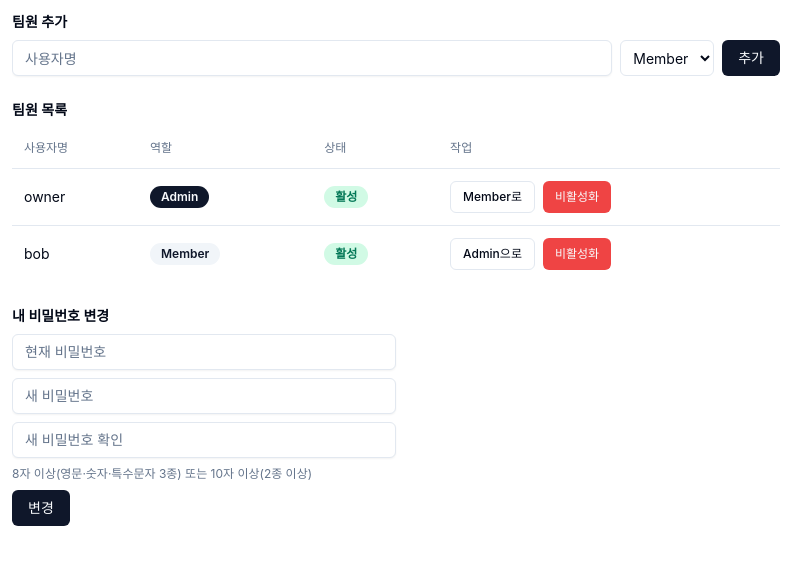
AgentsTab — 역할 관리/게이팅 (issue 210) › 비밀번호 변경 시 확인이 일치하지 않으면 막는다 (issue 211)
Check: the text "owner" is shown, box [12,168,138,225]
Type "old" into the password field with placeholder "현재 비밀번호" at (204, 352), box [12,334,396,370]
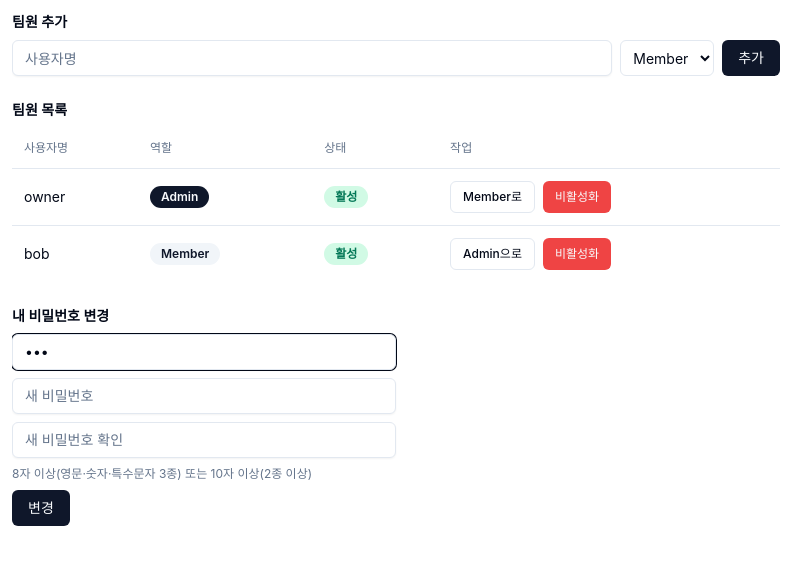
Type "Newpass1!" into the password field with placeholder "새 비밀번호" at (204, 396), box [12,378,396,414]
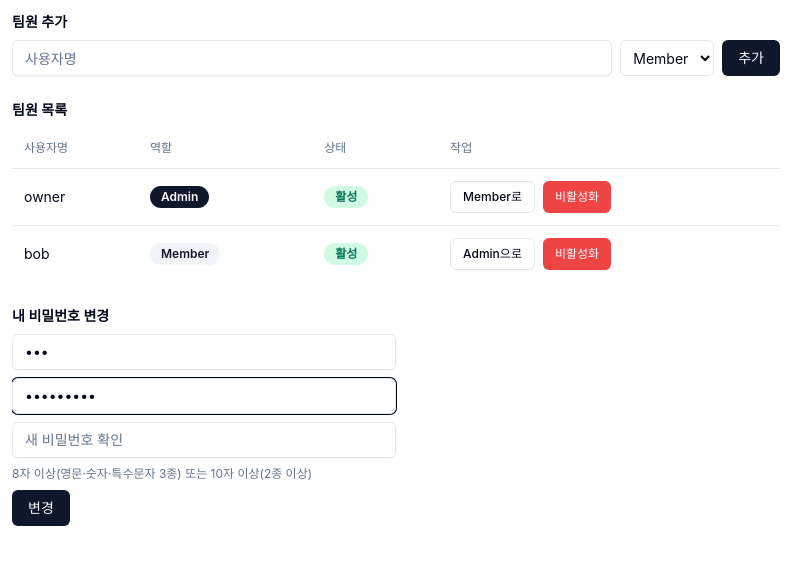
Type "different" into the password field with placeholder "새 비밀번호 확인" at (204, 440), box [12,422,396,458]
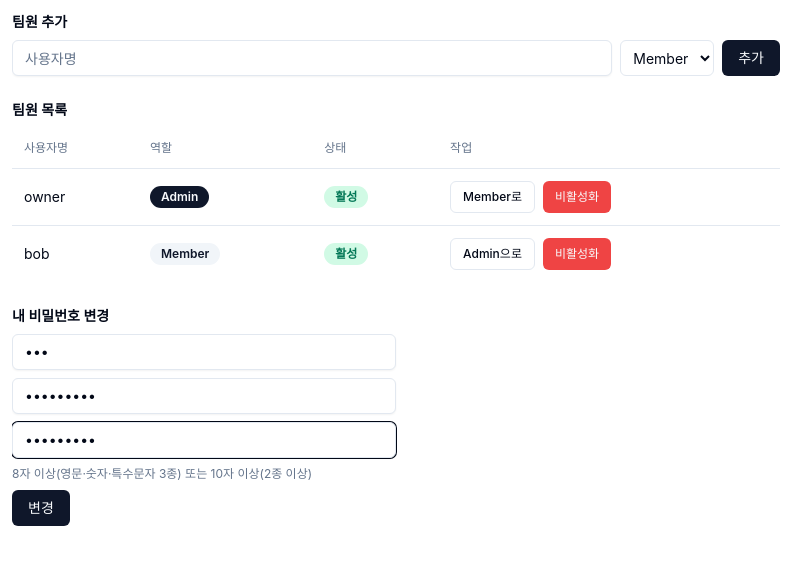
Click the button "변경" at (41, 508), box [12,490,70,526]
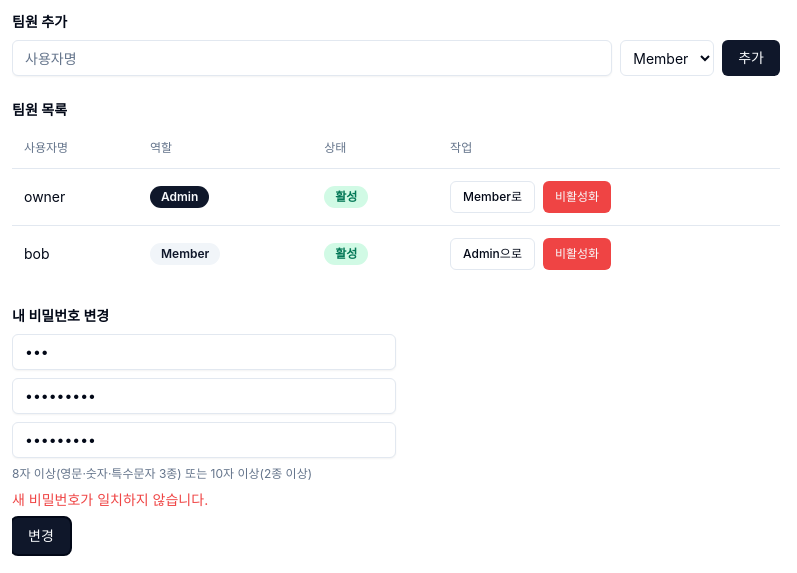
Check: the text "새 비밀번호가 일치하지 않습니다." is shown, box [12,490,208,508]
